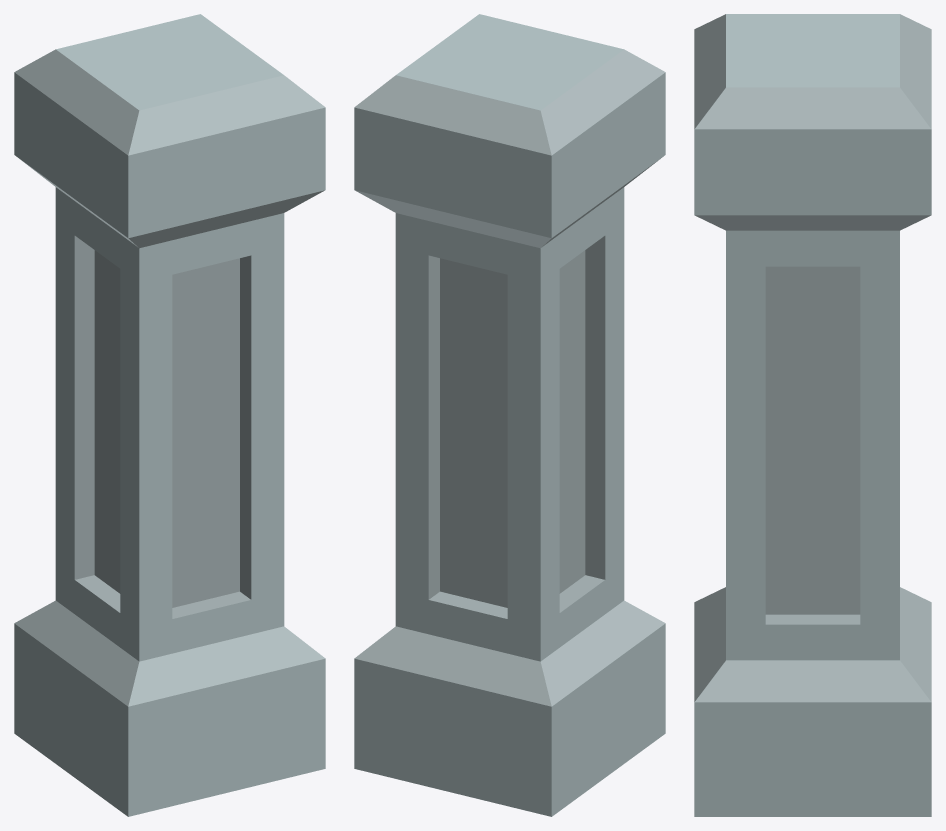
Rendered from statue_column.glb.
3 views of the same model, side by side, from view 1: azimuth 30°, elevation 25°; view 2: azimuth 150°, elevation 25°; view 3: azimuth 270°, elevation 25° (orthographic). The views are drawn at different scales.
Parts seen in each view (by area): view 1: statue_column; view 2: statue_column; view 3: statue_column.
Boxes of the visible parts, box(x1,y1,x2,y2) form: statue_column: box(14, 14, 325, 816); statue_column: box(354, 14, 665, 816); statue_column: box(694, 14, 931, 816).
Size of the model in its own units: 0.3 by 1 by 0.3.
